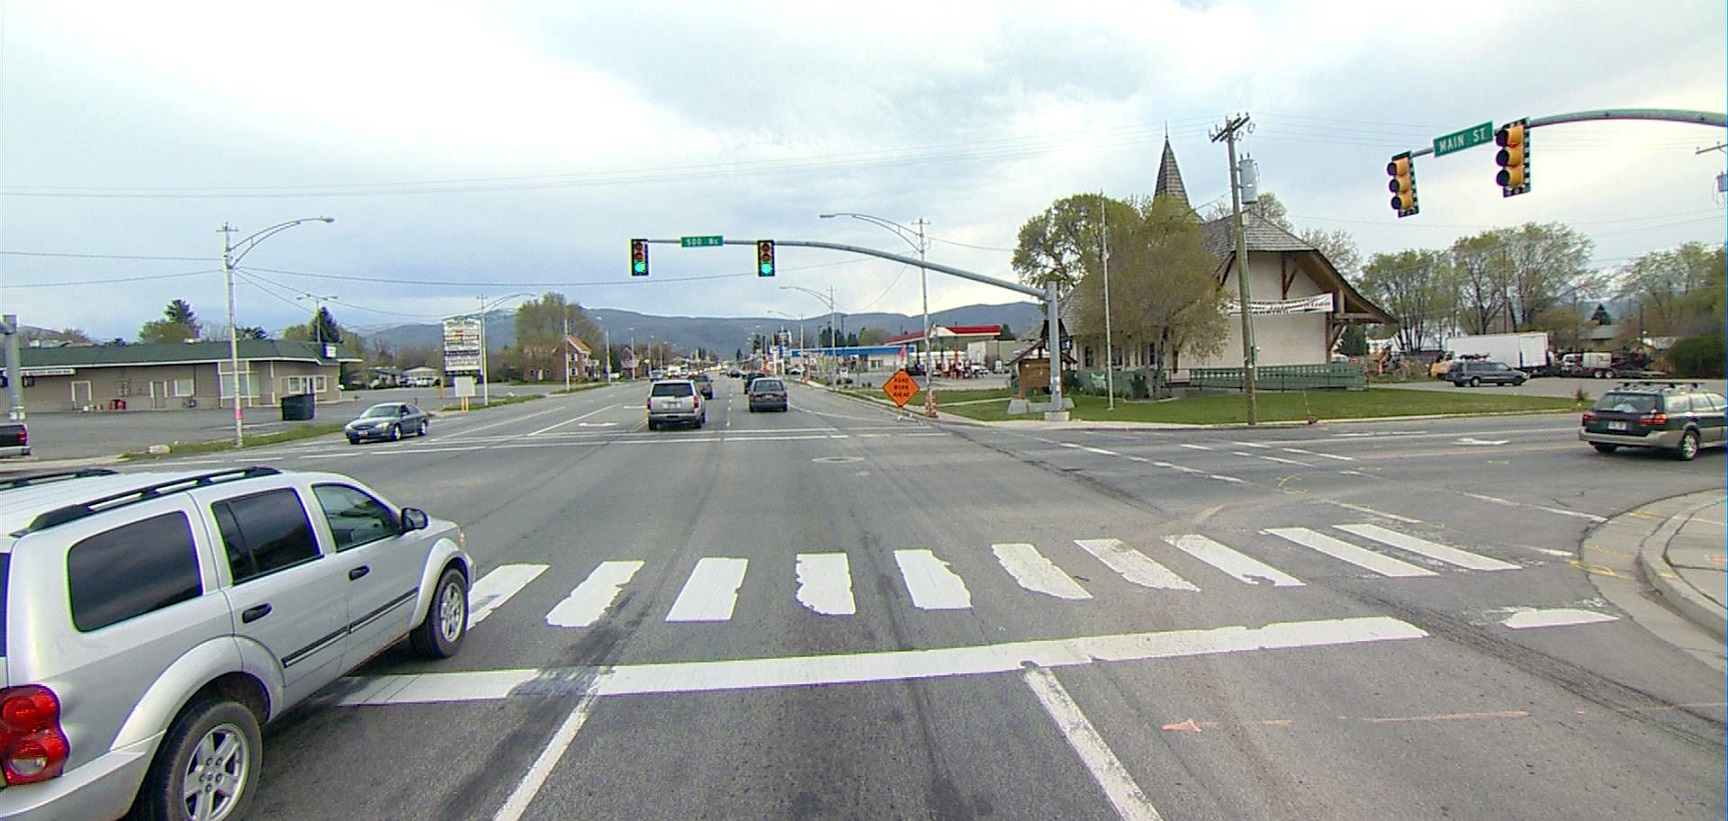traffic_light: (629, 237, 651, 278), (755, 238, 777, 279)
